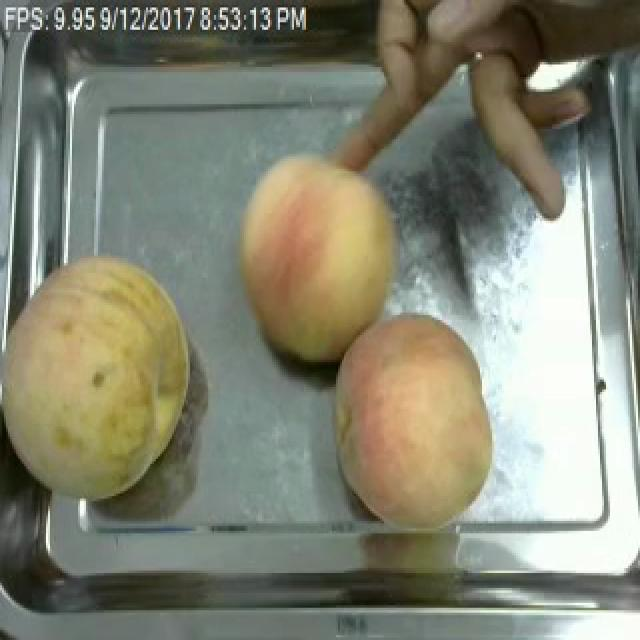Fruit: (2, 243, 202, 514), (228, 146, 412, 374), (322, 305, 504, 533)
